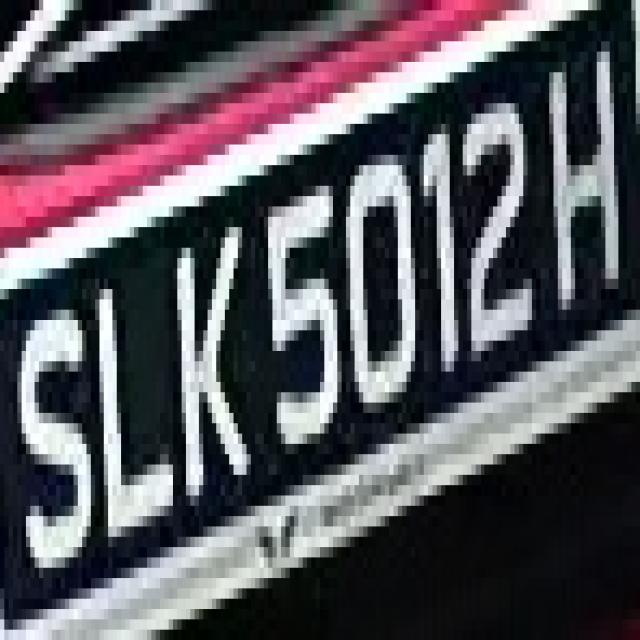0: (346, 134, 424, 423)
1: (419, 83, 467, 423)
2: (454, 62, 536, 382)
5: (246, 165, 346, 465)
H: (545, 31, 627, 341)
K: (177, 207, 264, 547)
L: (95, 248, 182, 537)
S: (0, 289, 99, 578)
